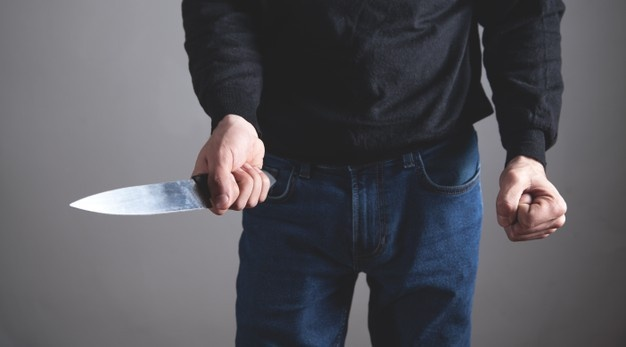knife: (67, 167, 278, 219)
